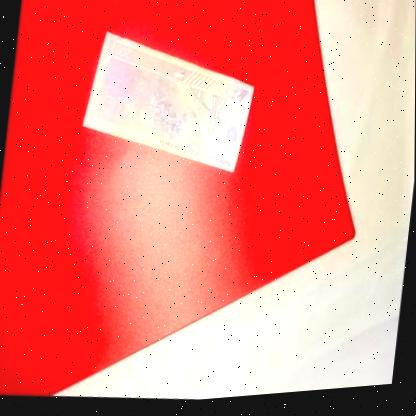two_hundred-back-vef: (76, 20, 261, 188)
